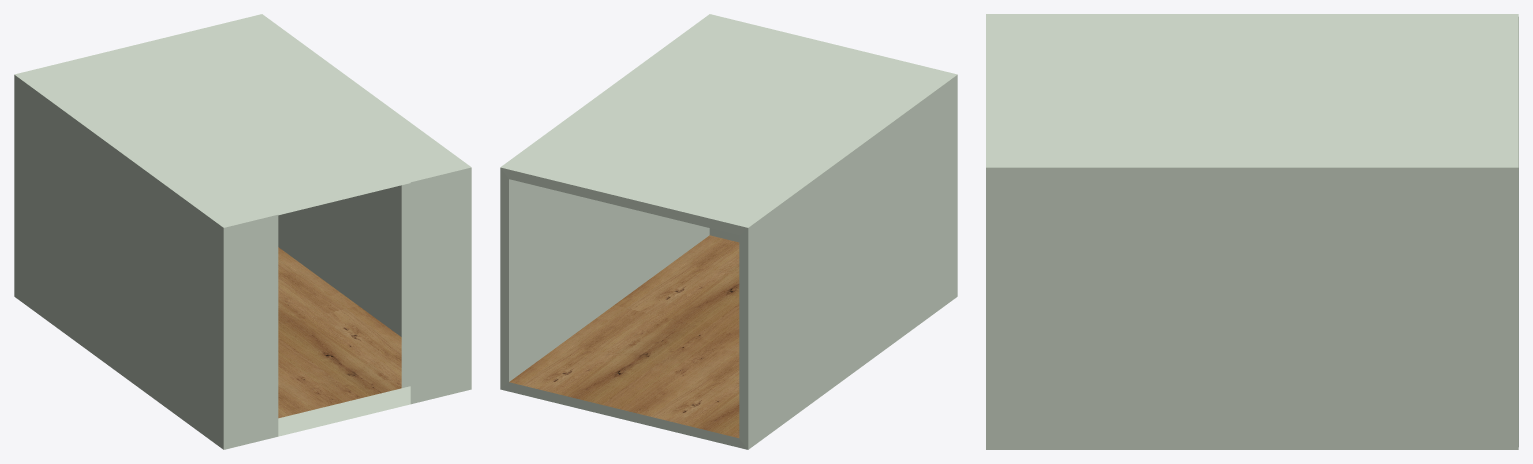
File: window_sidewall.fbx
3 views of the same model, side by side, from view 1: azimuth 30°, elevation 25°; view 2: azimuth 150°, elevation 25°; view 3: azimuth 270°, elevation 25° (orthographic). The views are drawn at different scales.
Visible parts, largest first — view 1: polySurface22; view 2: polySurface22; view 3: polySurface22.
Boxes of the visible parts, x1=… form: polySurface22: x1=14, y1=14, x2=471, y2=449; polySurface22: x1=500, y1=14, x2=957, y2=449; polySurface22: x1=986, y1=14, x2=1518, y2=449.
Size of the model in its own units: 32.42 by 27.74 by 47.47.
Materials: 2 (1 with a texture image).
